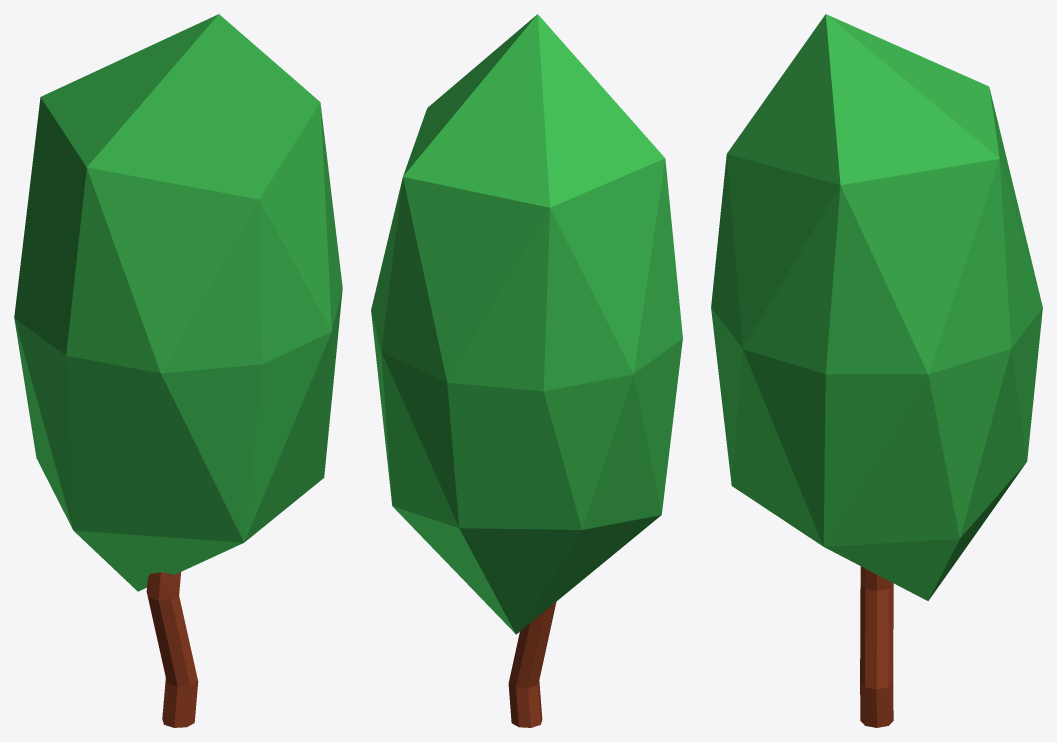
File: splitTree.002.fbx
The picture shows the model from 3 angles, left to right: view 1: azimuth 30°, elevation 25°; view 2: azimuth 150°, elevation 25°; view 3: azimuth 270°, elevation 25°; orthographic projection. The views are drawn at different scales.
Parts seen in each view (by area): view 1: Tree.002, Tree.001; view 2: Tree.002, Tree.001; view 3: Tree.002, Tree.001.
Boxes of the visible parts, x1,y1,x2,y2 form: Tree.002: (14, 14, 342, 591); Tree.001: (146, 572, 198, 727); Tree.002: (371, 14, 682, 634); Tree.001: (508, 602, 556, 727); Tree.002: (711, 14, 1042, 600); Tree.001: (860, 566, 893, 727).
Size of the model in its own units: 380 by 949 by 400.
